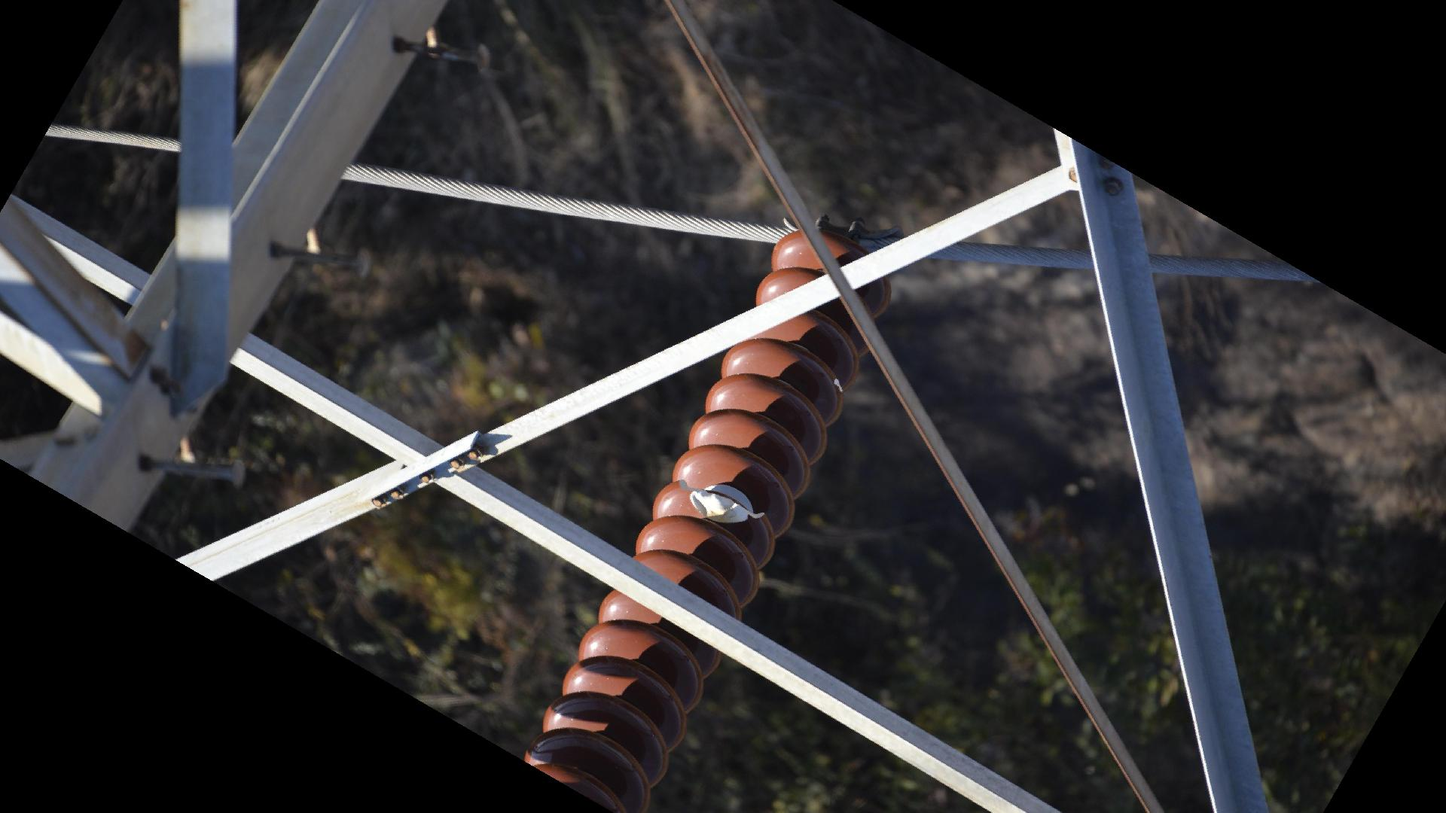insulator: (519, 220, 900, 811)
insulator_breakage: (670, 473, 773, 531)
